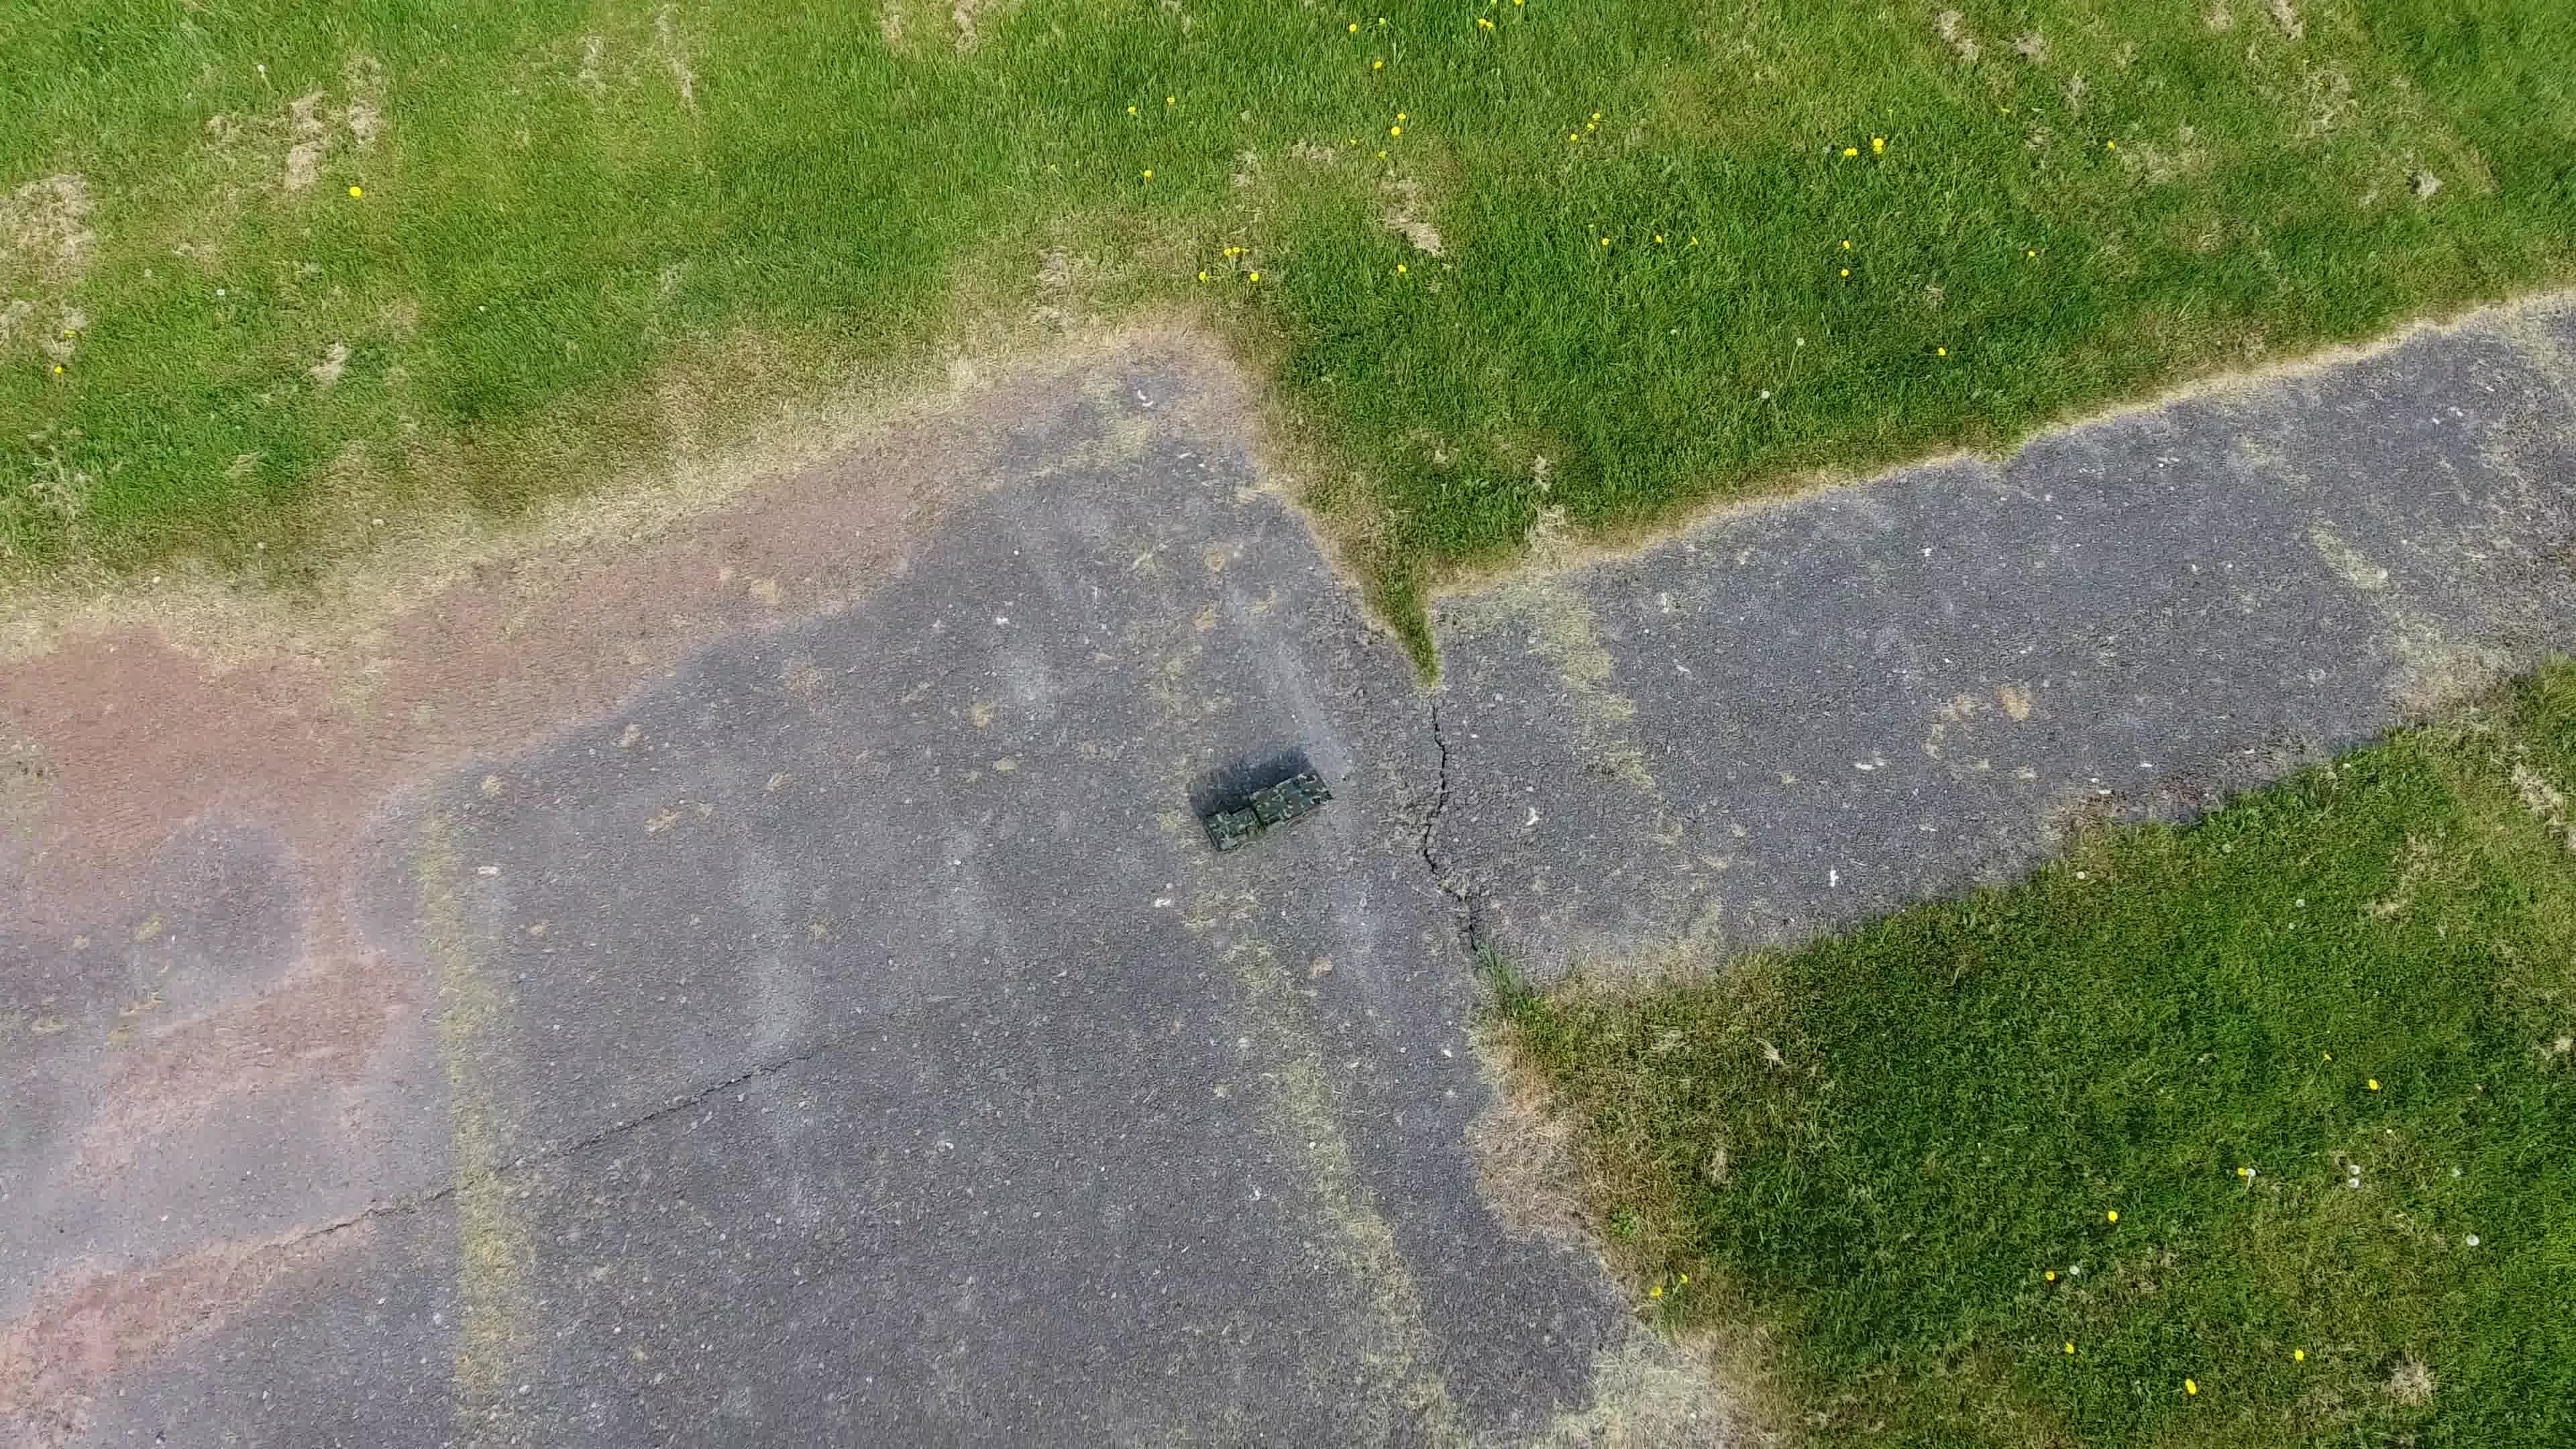transporter9_camo: (1200, 759, 1336, 855)
